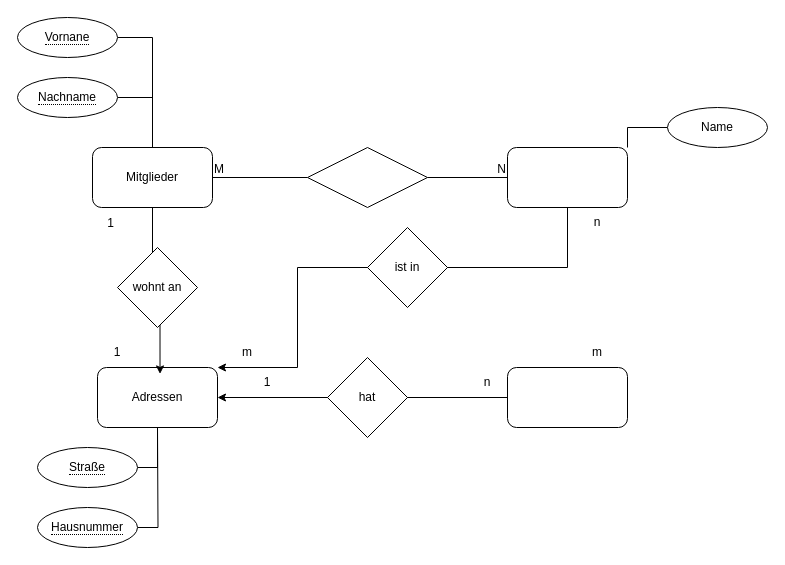
The diagram is 785 pixels wide and 565 high, and some of its shapes have lost their labels. The centre of each missing label's shape, as x and y in pixels:
"Orte" goes at point (567, 397).
"Sportarten" goes at point (567, 177).
"übt aus" goes at point (367, 177).
